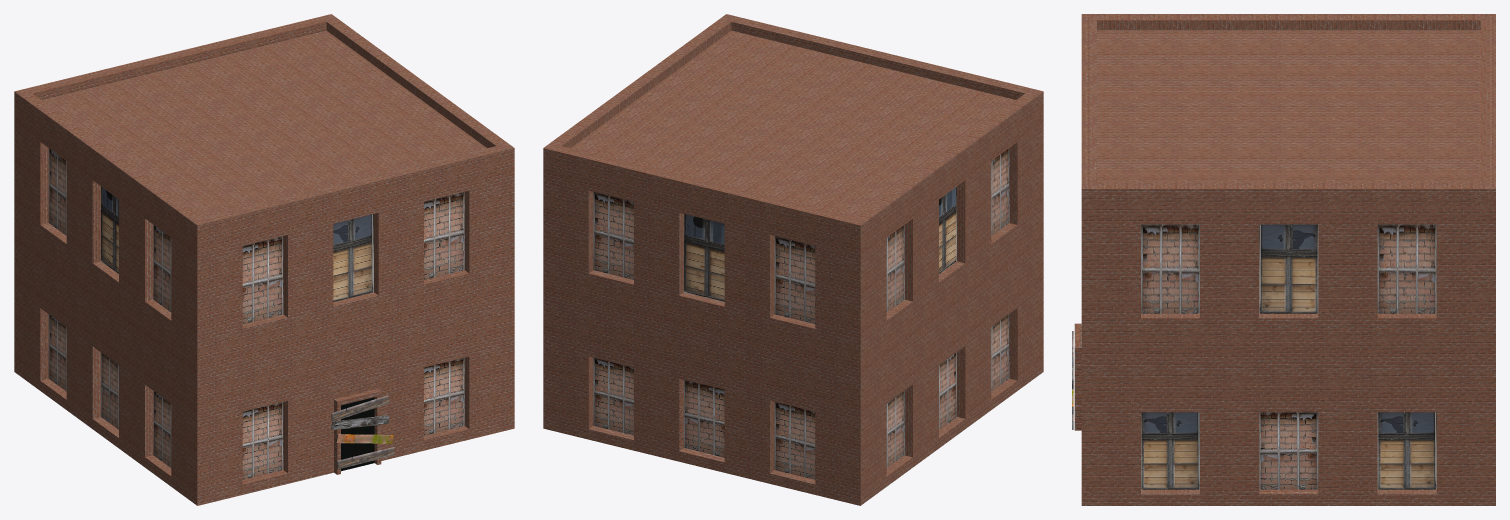
File: building_06.fbx
3 views of the same model, side by side, from view 1: azimuth 30°, elevation 25°; view 2: azimuth 150°, elevation 25°; view 3: azimuth 270°, elevation 25° (orthographic). The views are drawn at different scales.
Parts seen in each view (by area): view 1: building_06; view 2: building_06; view 3: building_06.
Part boxes in pixels (x1,y1,x2,y2): building_06: [14, 14, 514, 505]; building_06: [543, 14, 1043, 505]; building_06: [1072, 14, 1495, 505].
Bounding box in the file's own units: 11.24 × 9.49 × 11.5.
